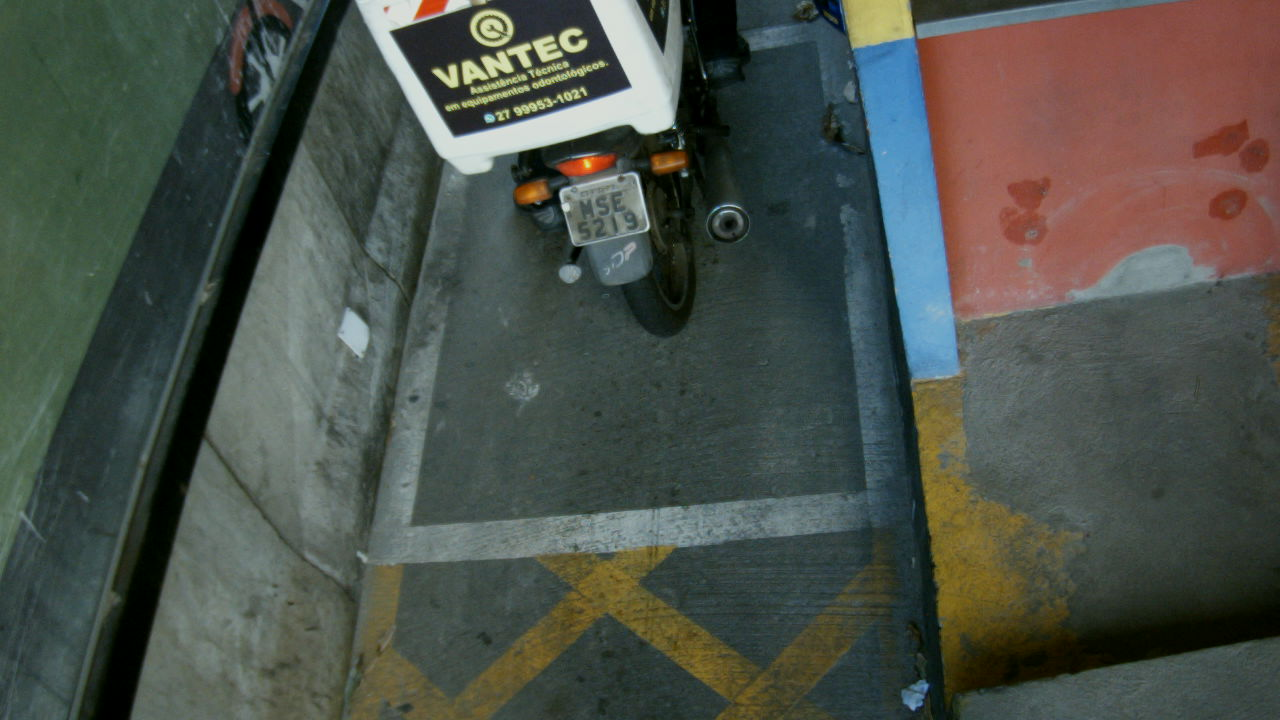placa: (559, 170, 651, 248)
